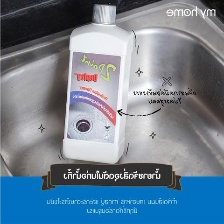cleaning_solution: (59, 2, 135, 166)
